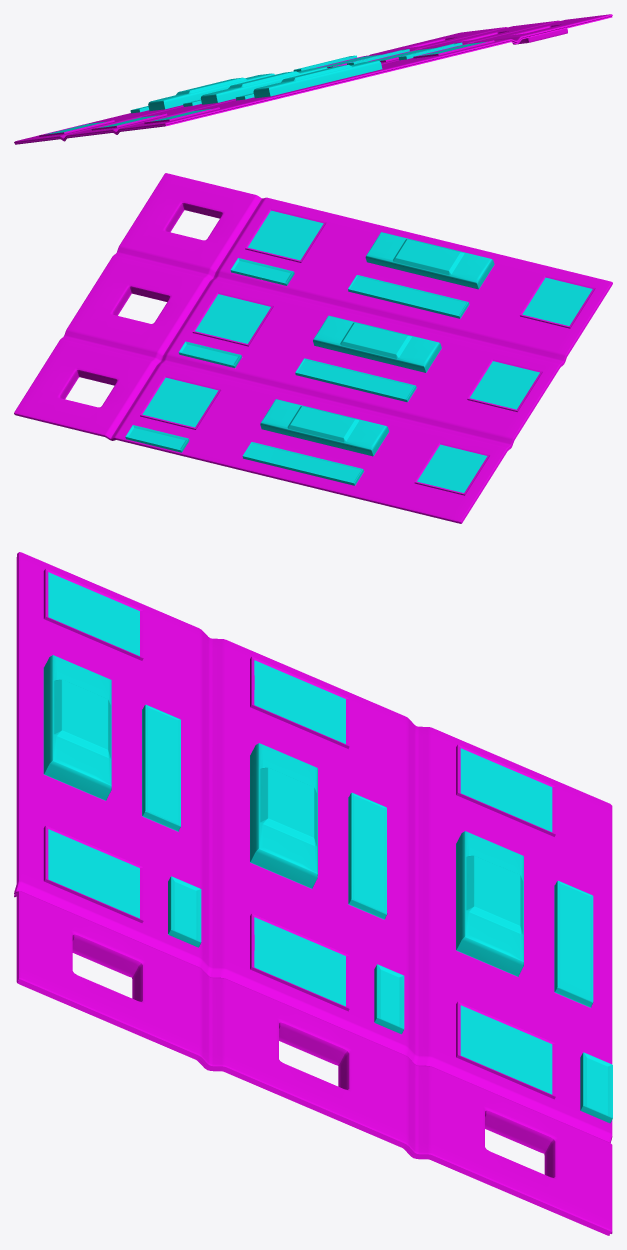
3 views of the same model, one above another, from view 1: azimuth 30°, elevation 25°; view 2: azimuth 150°, elevation 25°; view 3: azimuth 270°, elevation 25° (orthographic). The views are drawn at different scales.
Visible parts, largest first — view 1: Base, polySurface82; view 2: Base, polySurface82; view 3: Base, polySurface82.
Boxes of the visible parts, <box> form: Base: <box>14,14,612,144</box>; polySurface82: <box>45,41,486,134</box>; Base: <box>14,173,612,523</box>; polySurface82: <box>125,210,592,492</box>; Base: <box>14,552,612,1235</box>; polySurface82: <box>43,572,612,1123</box>.
Bounding box in the file's own units: 83.99 × 24.68 × 49.64.
